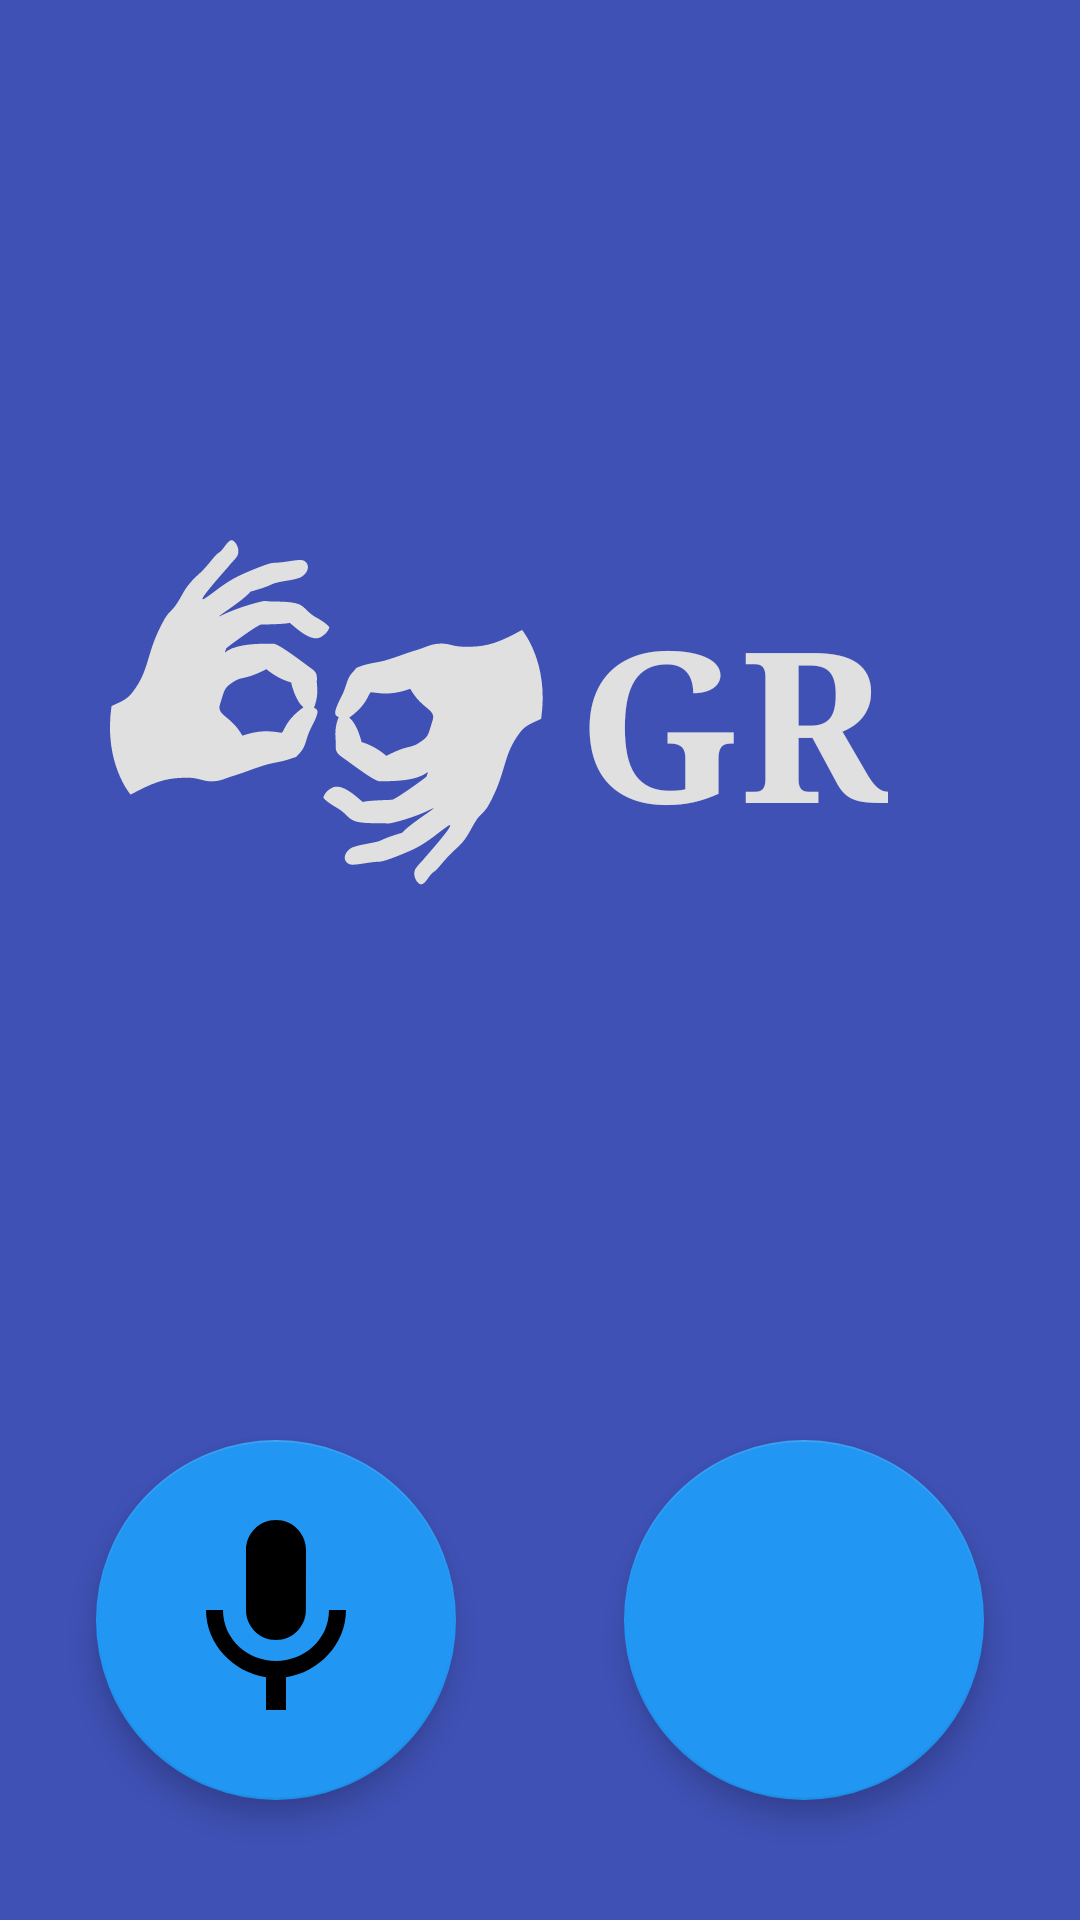

Icon click points for this 1080w x 1920h phone screenshot, format point (x, y):
mic: point (276, 1620)
